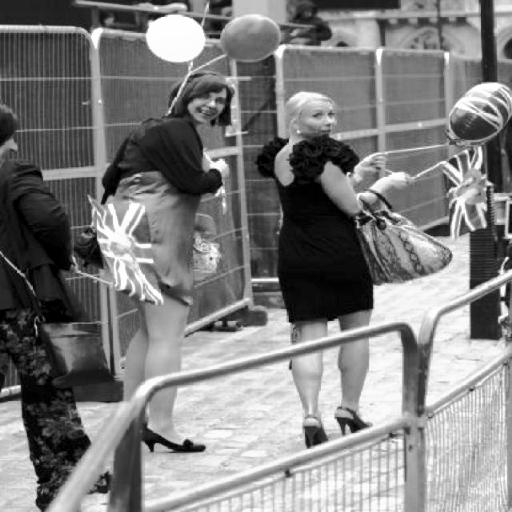balloon: (440, 80, 511, 158), (218, 7, 285, 66), (144, 9, 206, 67)
